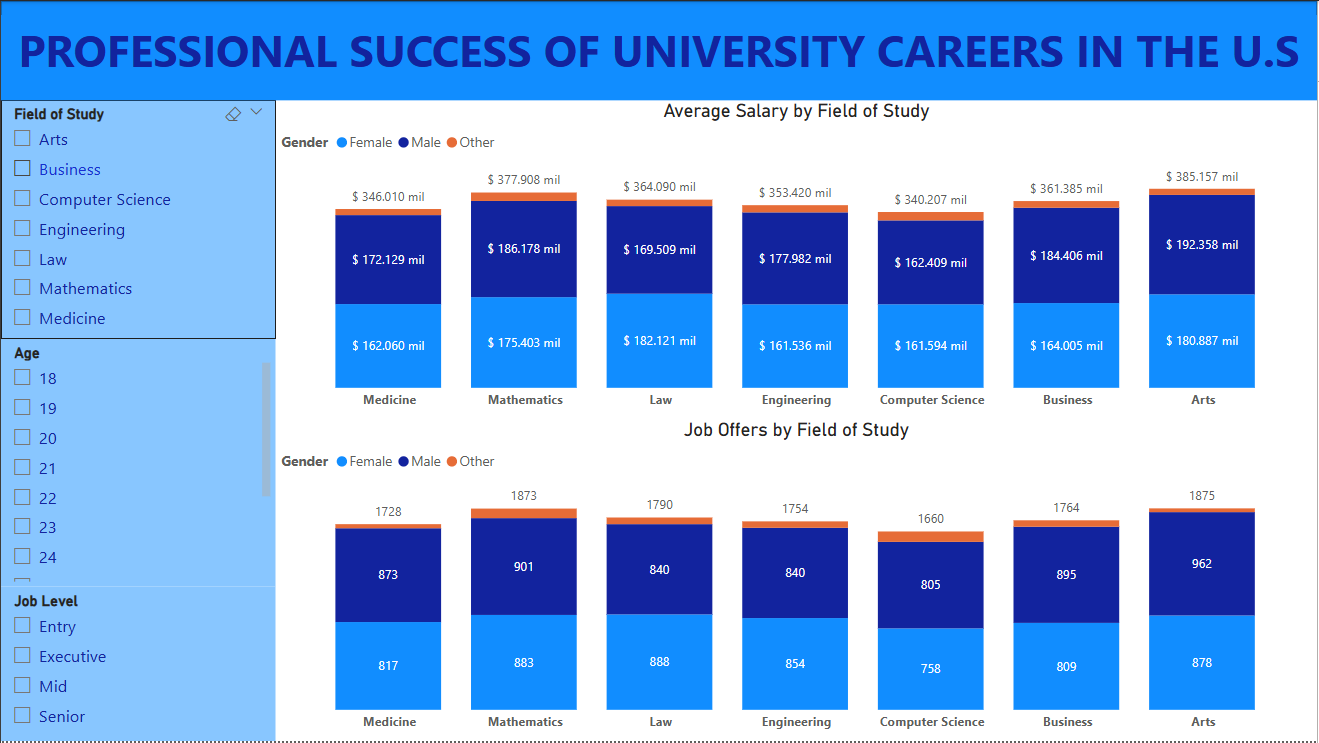

The page's visual inventory and layout, read from the dashboard file:
{"tool":"powerbi","page":{"name":"Página 1","canvas":[1280,720],"ordinal":0},"visuals":[{"type":"slicer","fields":{"Values":["University_Success.Field_of_Study"]},"box":[0,96.3,267.5,232.5],"z":0},{"type":"columnChart","title":"Average Salary by Field of Study","fields":{"Category":["University_Success.Field_of_Study"],"Y":["Sum(University_Success.Starting_Salary)"],"Series":["University_Success.Gender"]},"box":[267.5,96.3,1012.5,310.3],"z":1000},{"type":"columnChart","title":"Job Offers by Field of Study","fields":{"Category":["University_Success.Field_of_Study"],"Y":["Sum(University_Success.Job_Offers)"],"Series":["University_Success.Gender"]},"box":[267.5,406.6,1012.5,313.2],"z":2000},{"type":"slicer","fields":{"Values":["University_Success.Current_Job_Level"]},"box":[0,570,267.5,149.8],"z":3000},{"type":"slicer","fields":{"Values":["University_Success.Age"]},"box":[0,328.8,267.5,241.2],"z":4000},{"type":"shape","box":[0,0,1280,73.9],"z":5000},{"type":"textbox","box":[0,13.6,1280,82.7],"z":6000}]}

Visuals, with their boxes in screenshot pixels (x1, y1, x2, y2), scaled from the page's 1280x720 canvas onto the 1319x743 screenshot:
slicer - University_Success.Field_of_Study: select_region(0, 99, 276, 339)
"Average Salary by Field of Study" columnChart: select_region(276, 99, 1318, 420)
"Job Offers by Field of Study" columnChart: select_region(276, 420, 1318, 742)
slicer - University_Success.Current_Job_Level: select_region(0, 588, 276, 742)
slicer - University_Success.Age: select_region(0, 339, 276, 588)
shape: select_region(0, 0, 1318, 76)
textbox: select_region(0, 14, 1318, 99)
